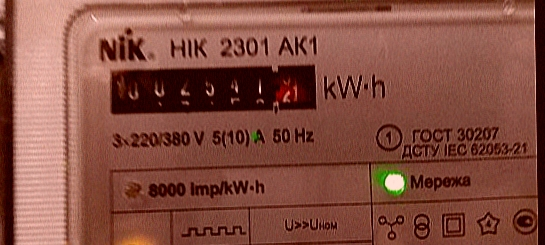0: (123, 75, 141, 101), (151, 72, 165, 99)
1: (251, 68, 264, 95)
2: (175, 71, 191, 96)
4: (227, 69, 240, 93)
5: (200, 70, 218, 98)
6: (278, 85, 293, 103)
screen: (96, 50, 330, 125)
